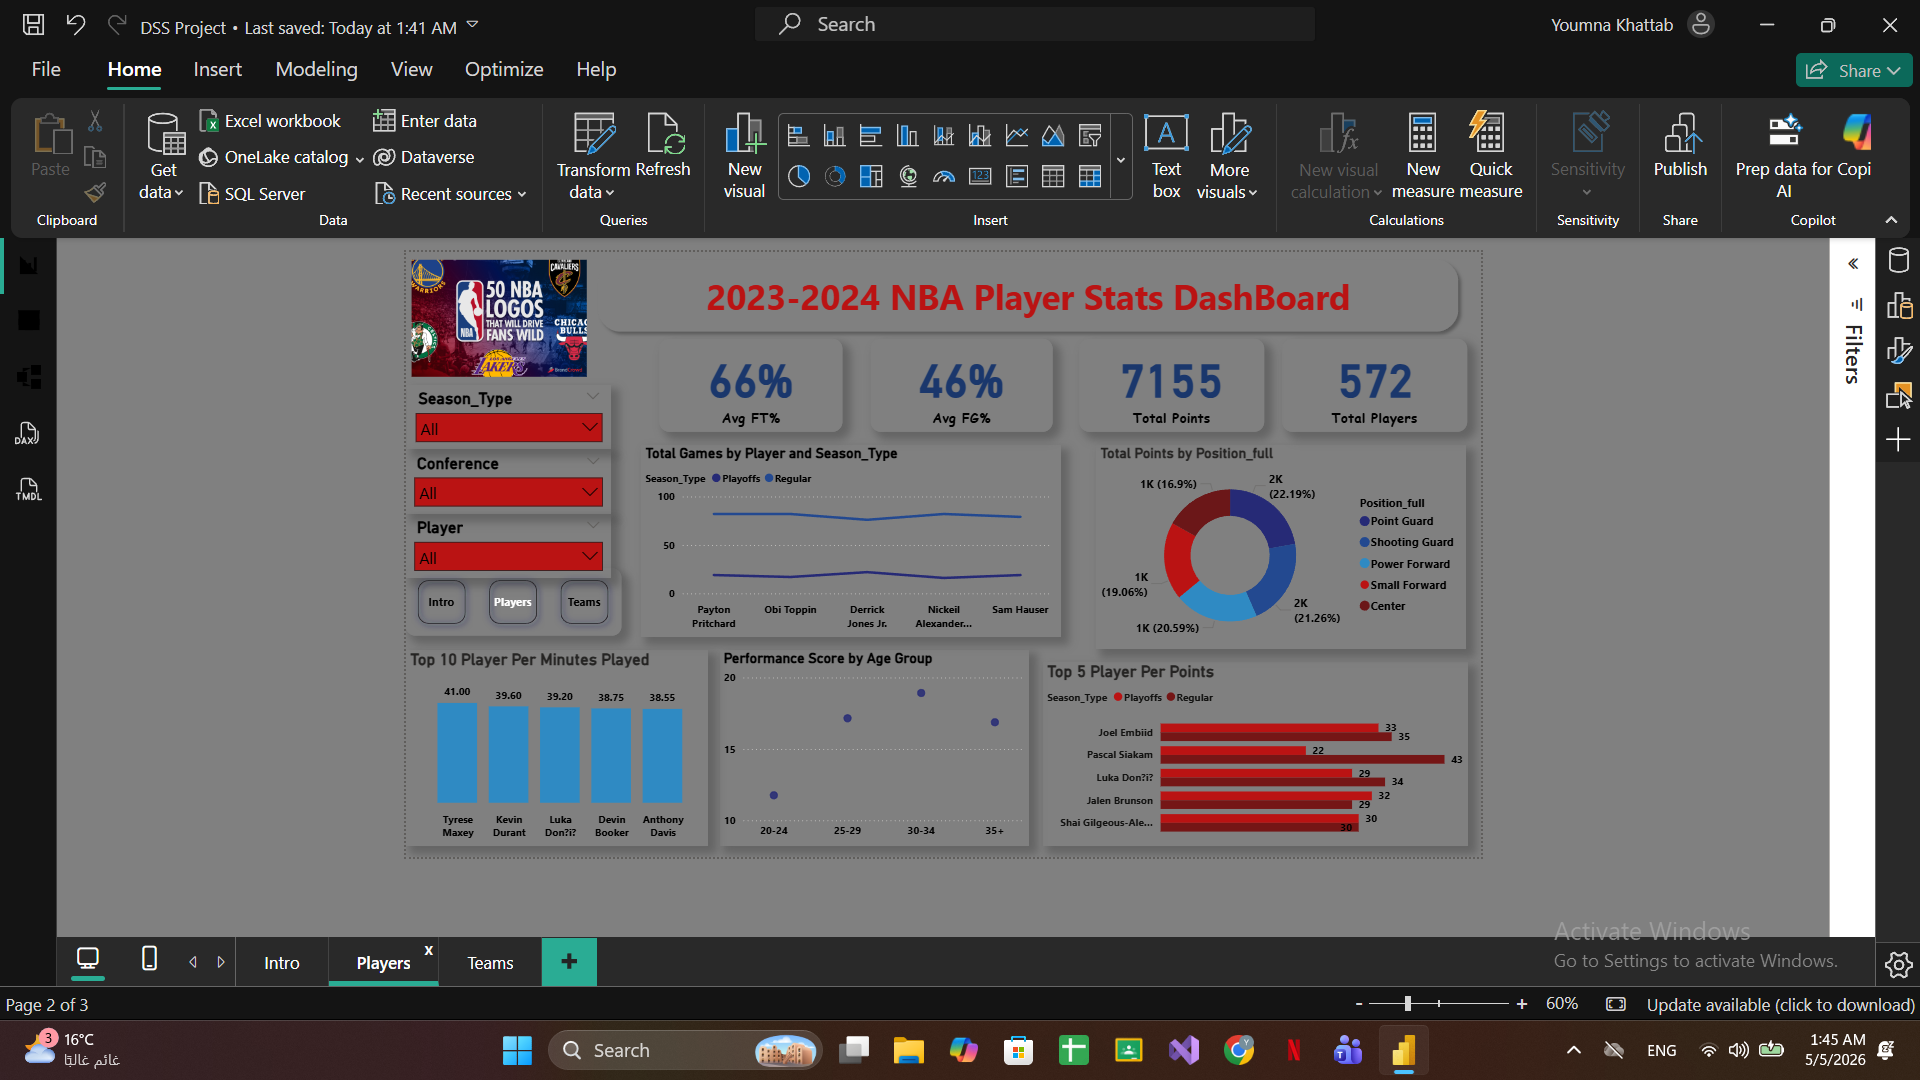

The page's visual inventory and layout, read from the dashboard file:
{"tool":"powerbi","page":{"name":"Players","canvas":[1280,720],"ordinal":1},"visuals":[{"type":"shape","box":[220.4,0,1041.7,103.8],"z":0},{"type":"card","fields":{"Values":["DAX_Measures.Total Players"]},"box":[1043,103.3,220.1,111],"z":1000},{"type":"card","fields":{"Values":["DAX_Measures.Total Points"]},"box":[801.8,103.3,220.1,111],"z":2000},{"type":"card","fields":{"Values":["DAX_Measures.Avg FG%"]},"box":[553.1,103.3,216.2,111],"z":3000},{"type":"card","fields":{"Values":["DAX_Measures.Avg FT%"]},"box":[302.4,103.3,218.2,111],"z":4000},{"type":"slicer","fields":{"Values":["Dim_Seasons.Season_Type"]},"box":[1.8,158.4,242.2,76.5],"z":5000},{"type":"slicer","fields":{"Values":["Dim_Teams.Conference"]},"box":[0,234.9,244,76.5],"z":6000},{"type":"donutChart","fields":{"Category":["Dim_Positions.Position_full"],"Y":["DAX_Measures.Total Points"]},"box":[821.7,229.9,440.9,243.1],"z":7000},{"type":"clusteredBarChart","title":"Top 5 Player Per Points","fields":{"Category":["Fact_Players_Stats.Player"],"Y":["DAX_Measures.Total Points"],"Series":["Dim_Seasons.Season_Type"]},"box":[758.3,488.3,506.7,218.3],"z":8000},{"type":"clusteredColumnChart","title":"Top 10 Player Per Minutes Played","fields":{"Category":["Fact_Players_Stats.Player"],"Y":["DAX_Measures.Avg Minutes Per Game"]},"box":[0,473.3,360,233.3],"z":9000},{"type":"image","box":[1.8,0,218.5,158.4],"z":10000},{"type":"pageNavigator","box":[0,377,256.8,80.1],"z":11000},{"type":"lineChart","title":"Total Games by Player and Season_Type","fields":{"Category":["Fact_Players_Stats.Player"],"Y":["Sum(Fact_Players_Stats.Games)"],"Series":["Dim_Seasons.Season_Type"]},"box":[280.5,229.5,499,227.6],"z":12000},{"type":"slicer","fields":{"Values":["Fact_Players_Stats.Player"]},"box":[0,311.4,244,76.5],"z":13000},{"type":"scatterChart","fields":{"X":["Fact_Players_Stats.Age Group"],"Y":["DAX_Measures.Performance Score"]},"box":[373.3,473.3,368.3,233.3],"z":14000}]}

Visuals, with their boxes on the page's 1280x720 design canvas (x1, y1, x2, y2). These are canvas units, not pixel positions in the 1920x1080 screenshot, which may show the page scaled, cropped or inside an application window:
shape: [220, 0, 1262, 104]
card - DAX_Measures.Total Players: [1043, 103, 1263, 214]
card - DAX_Measures.Total Points: [802, 103, 1022, 214]
card - DAX_Measures.Avg FG%: [553, 103, 769, 214]
card - DAX_Measures.Avg FT%: [302, 103, 521, 214]
slicer - Dim_Seasons.Season_Type: [2, 158, 244, 235]
slicer - Dim_Teams.Conference: [0, 235, 244, 311]
donutChart - Dim_Positions.Position_full x DAX_Measures.Total Points: [822, 230, 1263, 473]
"Top 5 Player Per Points" clusteredBarChart: [758, 488, 1265, 707]
"Top 10 Player Per Minutes Played" clusteredColumnChart: [0, 473, 360, 707]
image: [2, 0, 220, 158]
pageNavigator: [0, 377, 257, 457]
"Total Games by Player and Season_Type" lineChart: [280, 230, 780, 457]
slicer - Fact_Players_Stats.Player: [0, 311, 244, 388]
scatterChart - Fact_Players_Stats.Age Group x DAX_Measures.Performance Score: [373, 473, 742, 707]
